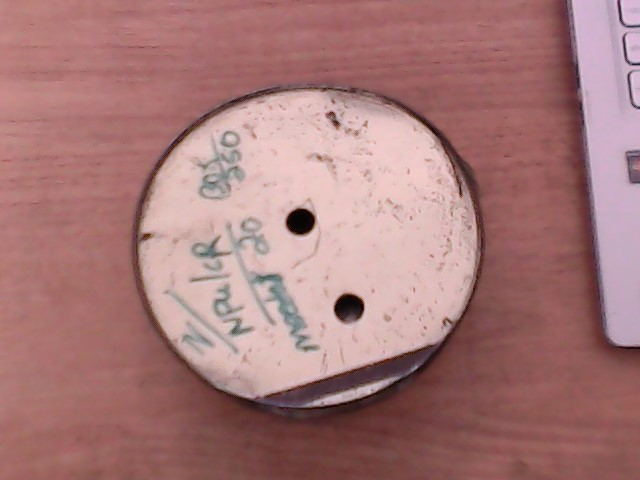Metal: (114, 72, 517, 434)
